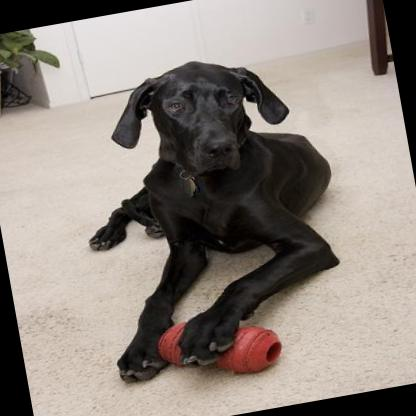Great_Dane: (53, 35, 364, 390)
